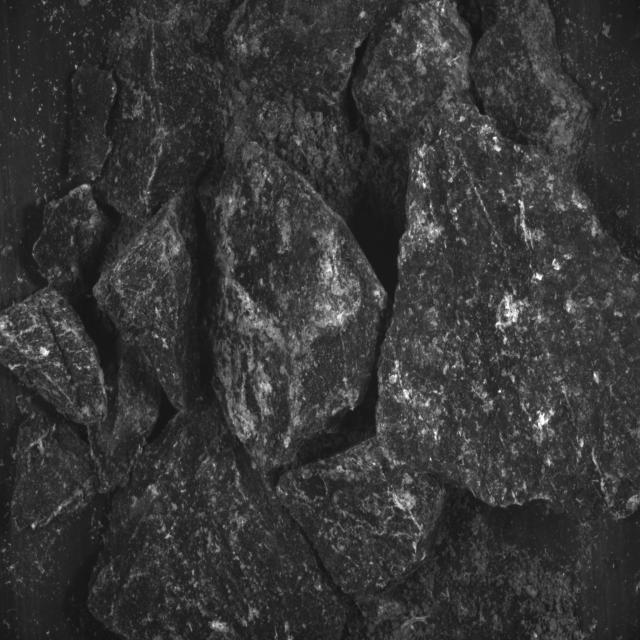Stones: (379, 102, 640, 518), (90, 409, 346, 640), (211, 143, 387, 472), (277, 439, 446, 601), (97, 15, 224, 219), (95, 192, 201, 411), (12, 412, 104, 639), (472, 1, 592, 175), (354, 1, 472, 158), (226, 1, 382, 113), (1, 287, 109, 425), (89, 343, 162, 495), (34, 185, 111, 298)
